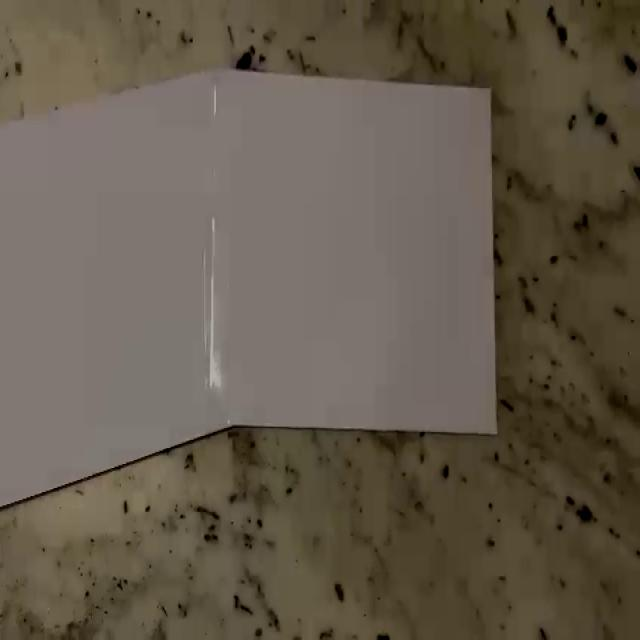road: (0, 69, 498, 508)
